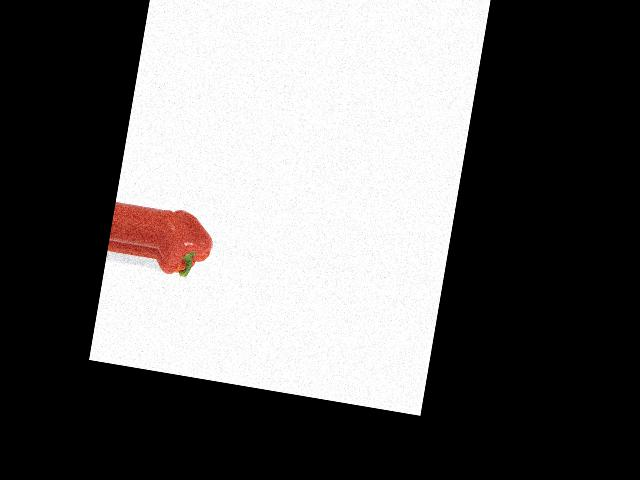bell_pepper: (151, 199, 219, 290)
